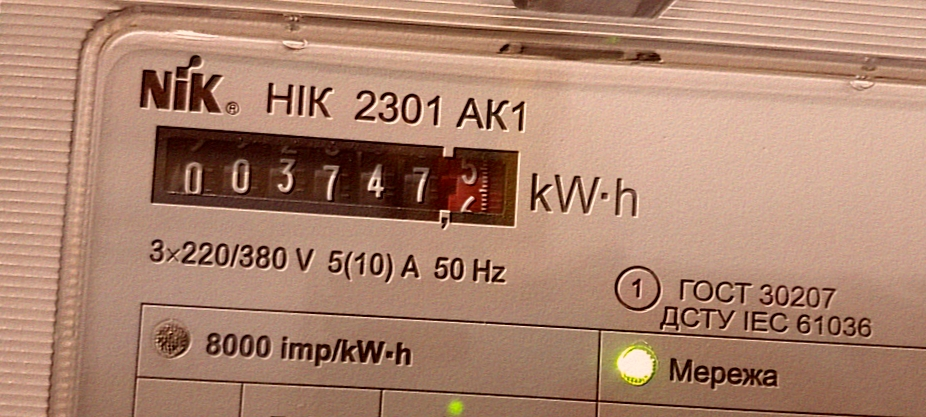0: (181, 158, 205, 194), (229, 154, 251, 193)
3: (275, 155, 296, 193)
4: (364, 158, 387, 200)
5: (458, 155, 479, 185)
6: (457, 191, 477, 213)
7: (407, 162, 432, 203), (319, 160, 340, 201)
screen: (140, 113, 534, 241)
